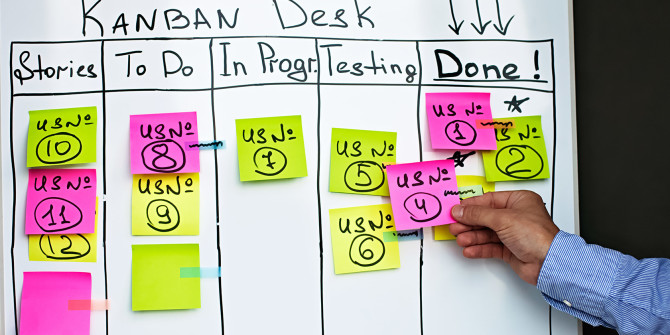stickynote: (127, 239, 207, 311), (230, 112, 311, 182), (326, 122, 399, 199), (386, 157, 465, 228), (128, 168, 206, 239), (24, 166, 101, 237), (16, 268, 96, 335), (477, 112, 550, 185), (327, 201, 401, 273), (128, 108, 204, 176), (423, 90, 500, 156), (24, 102, 99, 169)
